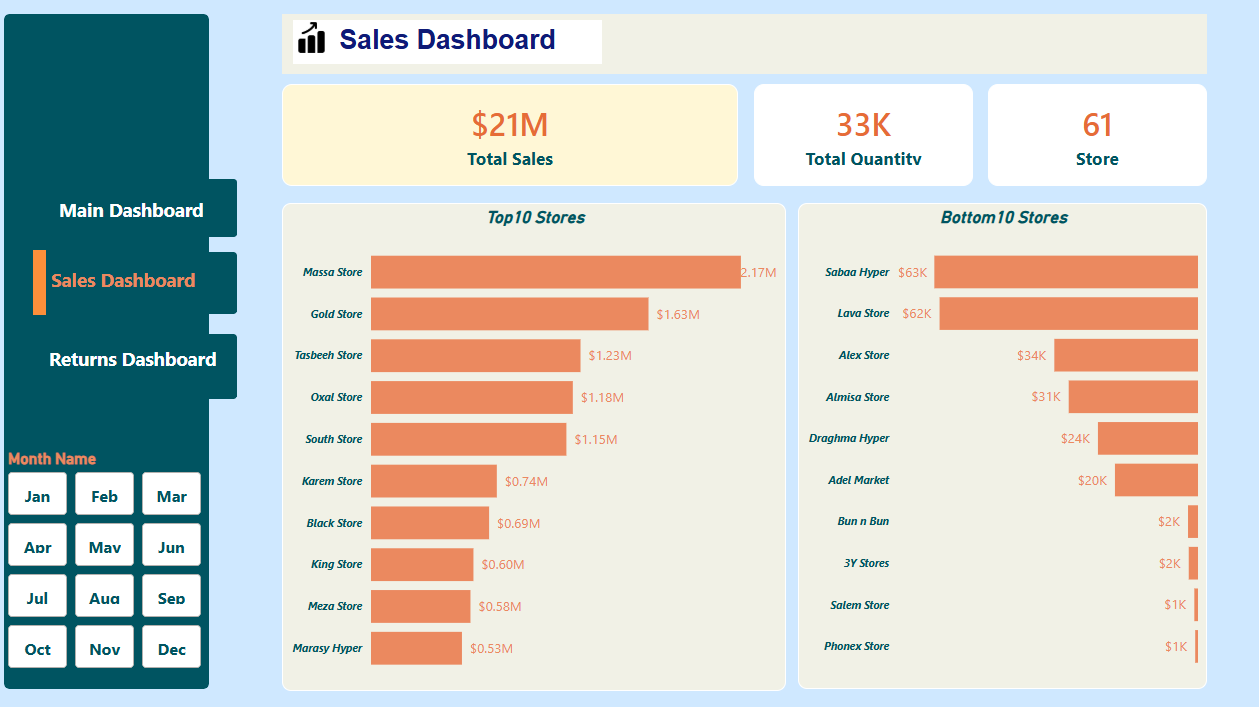

The dashboard page shown, as its layout file describes it:
{"tool":"powerbi","page":{"name":"Sales Dashboard","canvas":[1280,720],"ordinal":1},"visuals":[{"type":"shape","box":[11,19,205,675],"z":0},{"type":"cardVisual","fields":{"Data":["Sheet2.Total Sales"]},"box":[288.9,88.5,456.2,102.1],"z":1000},{"type":"cardVisual","fields":{"Data":["Count(Sheet4.store name)"]},"box":[995,88.5,219,102.1],"z":2000},{"type":"textbox","box":[289,19,925,60],"z":3000},{"type":"shape","box":[58,184,186,58],"z":5000,"group":"g1"},{"type":"barChart","title":"Top10 Stores","fields":{"Category":["Sheet4.store name"],"Y":["Sheet2.Total Sales"]},"box":[288.9,208.1,503.8,488.3],"z":5000},{"type":"textbox","box":[61,196.8,154.7,44.7],"z":6000,"group":"g1"},{"type":"barChart","title":"Bottom10 Stores","fields":{"Category":["Sheet4.store name"],"Y":["Sheet2.Total Sales"]},"box":[805.3,208.1,408.5,486.3],"z":6000},{"type":"cardVisual","fields":{"Data":["Sheet2.Total Quantity"]},"box":[760.6,88.5,219.8,102.1],"z":7000},{"type":"shape","box":[47,257,197,62],"z":7000,"group":"g2"},{"type":"shape","box":[51,339,193.4,65],"z":7000,"group":"g3"},{"type":"advancedSlicerVisual","fields":{"Values":["Sheet4.Month Name"]},"box":[11,452,206,227],"z":8000},{"type":"textbox","box":[300,25,309,44],"z":9000},{"type":"shape","box":[40,255,13,65],"z":9000,"group":"g2"},{"type":"image","box":[289,25,59,35],"z":10000},{"type":"group","id":"g1","title":"Group 2","box":[58,184,186,58],"z":11000},{"type":"textbox","box":[53,266.7,167.2,53.3],"z":11000,"group":"g2"},{"type":"group","id":"g2","title":"Group 3","box":[40,255,204,65],"z":12000},{"type":"textbox","box":[51,346,179.7,52],"z":12000,"group":"g3"},{"type":"group","id":"g3","title":"Group 1","box":[51,339,193,65],"z":12001}]}

Visuals, with their boxes in screenshot pixels (x1, y1, x2, y2), scaled from the page's 1280x720 canvas onto the 1259x707 screenshot:
shape: x1=11 y1=19 x2=212 y2=681
cardVisual - Sheet2.Total Sales: x1=284 y1=87 x2=733 y2=187
cardVisual - Count(Sheet4.store name): x1=979 y1=87 x2=1194 y2=187
textbox: x1=284 y1=19 x2=1194 y2=78
shape: x1=57 y1=181 x2=240 y2=238
"Top10 Stores" barChart: x1=284 y1=204 x2=780 y2=684
textbox: x1=60 y1=193 x2=212 y2=237
"Bottom10 Stores" barChart: x1=792 y1=204 x2=1194 y2=682
cardVisual - Sheet2.Total Quantity: x1=748 y1=87 x2=964 y2=187
shape: x1=46 y1=252 x2=240 y2=313
shape: x1=50 y1=333 x2=240 y2=397
advancedSlicerVisual - Sheet4.Month Name: x1=11 y1=444 x2=213 y2=667
textbox: x1=295 y1=25 x2=599 y2=68
shape: x1=39 y1=250 x2=52 y2=314
image: x1=284 y1=25 x2=342 y2=59
"Group 2" group: x1=57 y1=181 x2=240 y2=238
textbox: x1=52 y1=262 x2=217 y2=314
"Group 3" group: x1=39 y1=250 x2=240 y2=314
textbox: x1=50 y1=340 x2=227 y2=391
"Group 1" group: x1=50 y1=333 x2=240 y2=397
